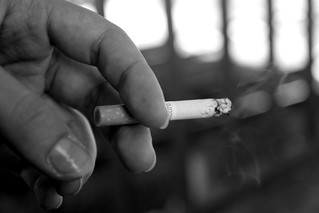cigarette: (90, 95, 235, 129)
